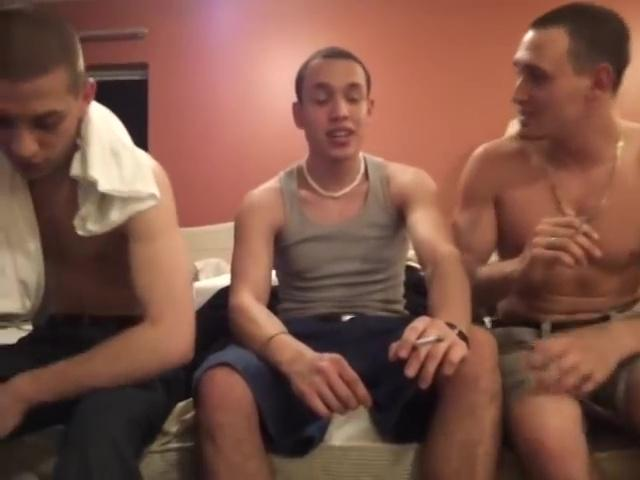cigarette: (413, 333, 446, 350), (572, 213, 588, 235)
